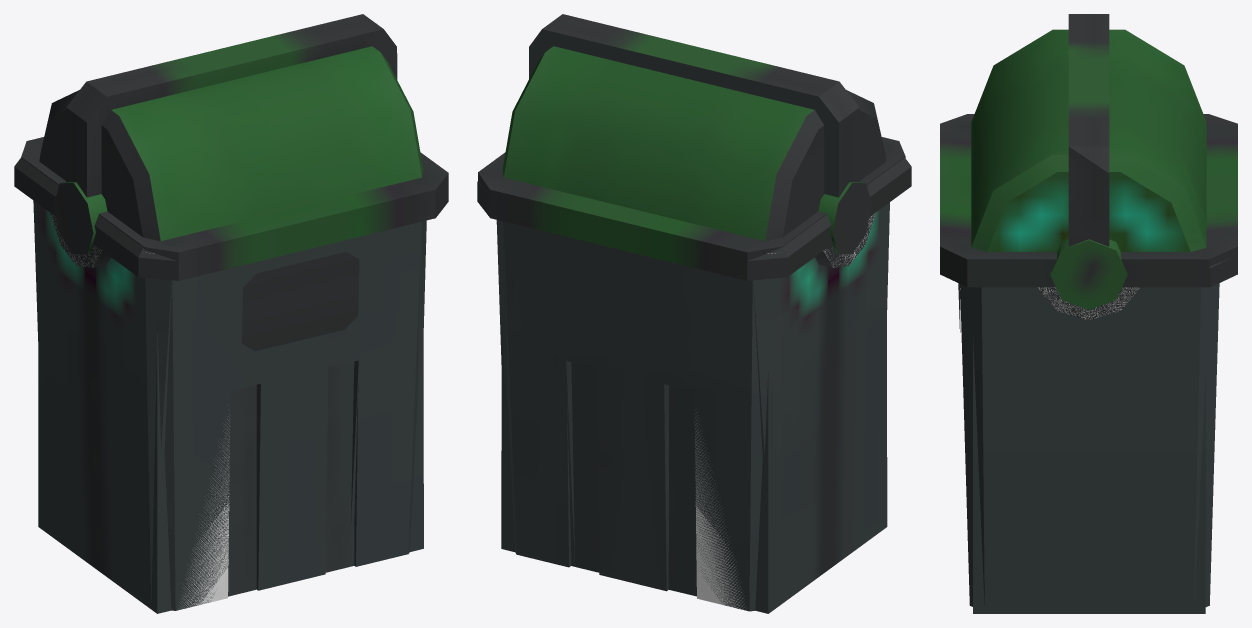
The model's file is objects_un_boxtrashcan01.gltf.
The picture shows the model from 3 angles, left to right: view 1: azimuth 30°, elevation 25°; view 2: azimuth 150°, elevation 25°; view 3: azimuth 270°, elevation 25°; orthographic projection. The views are drawn at different scales.
Parts seen in each view (by area): view 1: um_objects_un_boxtrashcan01_model_lod0Shape:objects_un_boxtr (×2), um_objects_un_boxtrashcan01_model_lod1Shape:objects_un_boxtr, um_objects_un_boxtrashcan01_model_lod2Shape:objects_un_boxtr; view 2: um_objects_un_boxtrashcan01_model_lod0Shape:objects_un_boxtr (×2), um_objects_un_boxtrashcan01_model_lod1Shape:objects_un_boxtr, um_objects_un_boxtrashcan01_model_lod2Shape:objects_un_boxtr; view 3: um_objects_un_boxtrashcan01_model_lod1Shape:objects_un_boxtr, um_objects_un_boxtrashcan01_model_lod0Shape:objects_un_boxtr (×2), um_objects_un_boxtrashcan01_model_lod2Shape:objects_un_boxtr.
Boxes of the visible parts, left/top/right/bottom form: um_objects_un_boxtrashcan01_model_lod0Shape:objects_un_boxtr (×2): left=14, top=16, right=435, bottom=610; um_objects_un_boxtrashcan01_model_lod1Shape:objects_un_boxtr: left=21, top=14, right=448, bottom=608; um_objects_un_boxtrashcan01_model_lod2Shape:objects_un_boxtr: left=38, top=265, right=423, bottom=613; um_objects_un_boxtrashcan01_model_lod0Shape:objects_un_boxtr (×2): left=477, top=16, right=911, bottom=611; um_objects_un_boxtrashcan01_model_lod1Shape:objects_un_boxtr: left=478, top=14, right=905, bottom=608; um_objects_un_boxtrashcan01_model_lod2Shape:objects_un_boxtr: left=483, top=181, right=887, bottom=613; um_objects_un_boxtrashcan01_model_lod1Shape:objects_un_boxtr: left=940, top=14, right=1237, bottom=613; um_objects_un_boxtrashcan01_model_lod0Shape:objects_un_boxtr (×2): left=958, top=14, right=1234, bottom=606; um_objects_un_boxtrashcan01_model_lod2Shape:objects_un_boxtr: left=973, top=254, right=1223, bottom=613.
Bounding box in the file's own units: 0.552 × 0.8056 × 0.461.
Materials: 2 (1 with a texture image).
